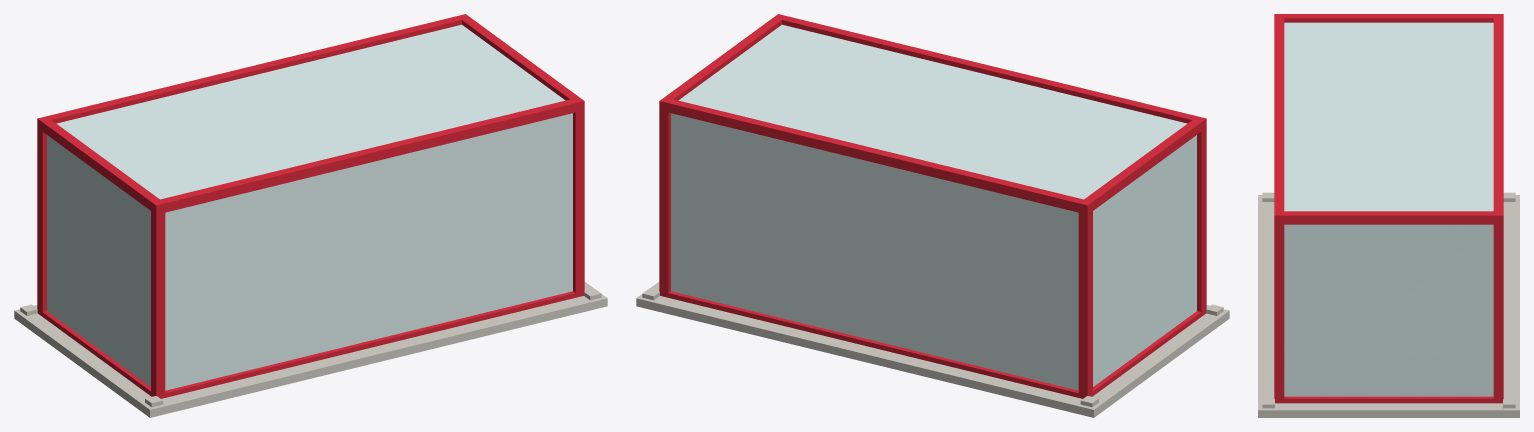
Rendered from land-cruiser-250.glb.
3 views of the same model, side by side, from view 1: azimuth 30°, elevation 25°; view 2: azimuth 150°, elevation 25°; view 3: azimuth 270°, elevation 25° (orthographic). The views are drawn at different scales.
Bounding box in the file's own units: 0.358 × 0.1515 × 0.184.
